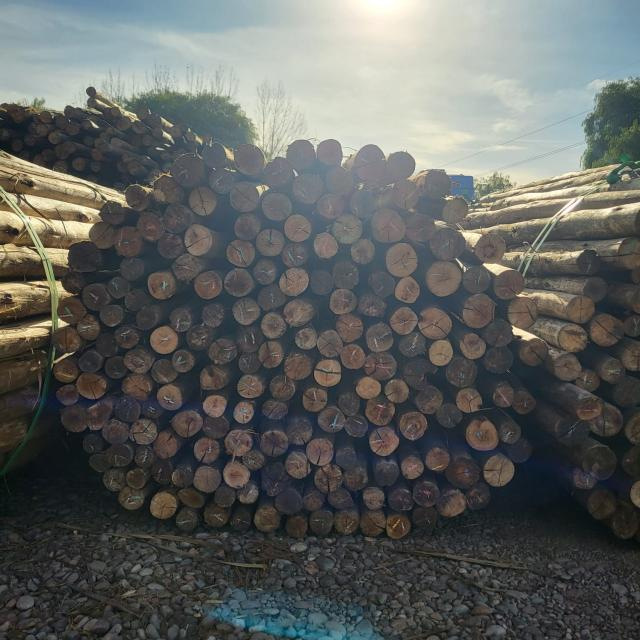package: (52, 141, 542, 537), (551, 166, 640, 534)
